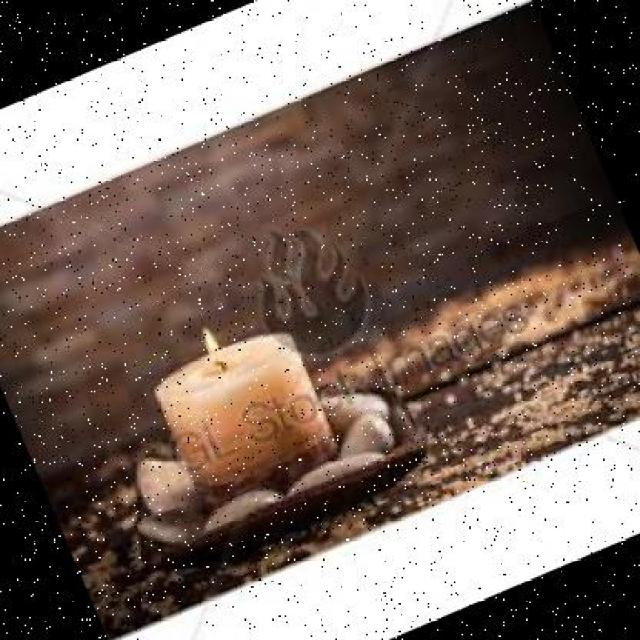fire: (185, 314, 229, 374)
